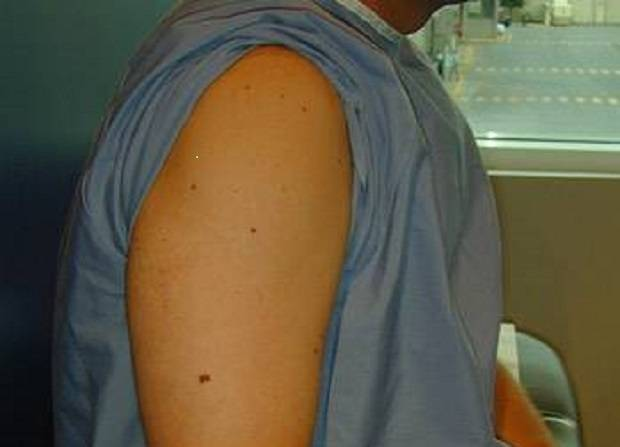melanoma: (179, 323, 260, 414)
